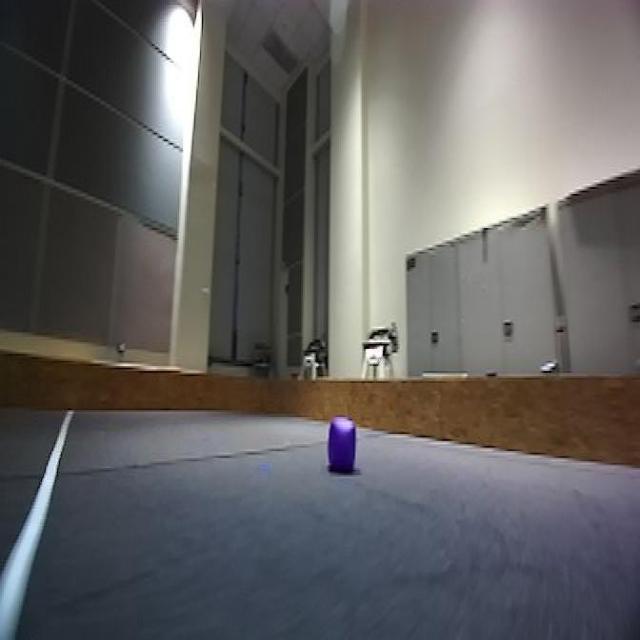frc_cube: (324, 417, 359, 477)
